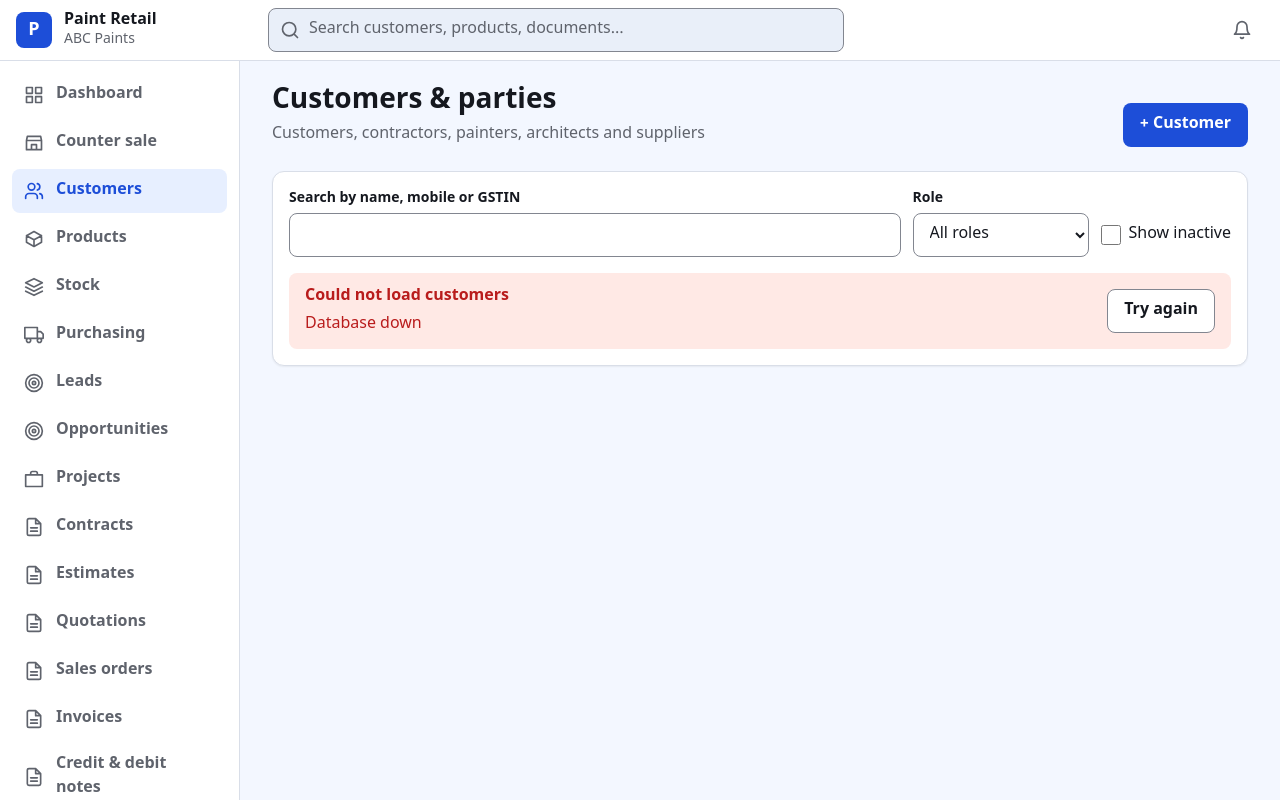
Scenario: PartiesPage › shows a failure with a way to try again
The image size is (1280, 800).
Expected: the text "Could not load customers" is shown, [305,285,509,309]
Expected: the text "Database down" is shown, [305,314,422,335]
Click the button "Try again". click: click(1161, 311)
box: [1107,289,1215,333]
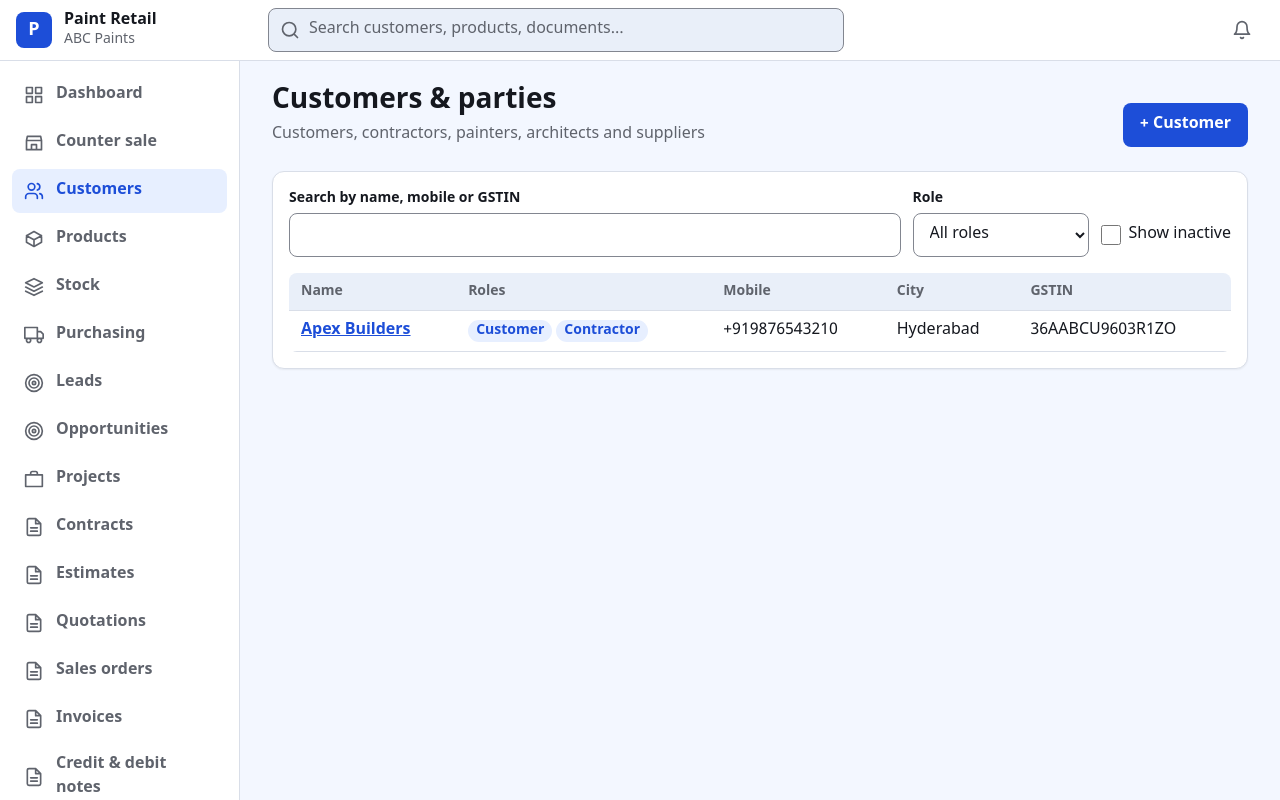
Expected: the link "Apex Builders" is shown, [301,320,410,341]
